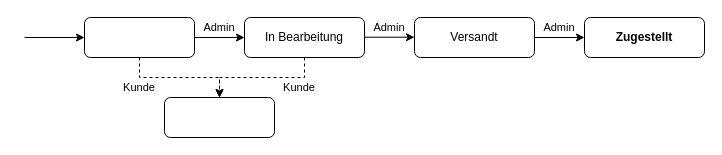
Image size: 722x155. Some labels were removed from this diagram. The centre of each missing label's shape, as x and y in pixels:
"Austehend" belongs at point 139,37.
"Storniert" belongs at point 219,117.
